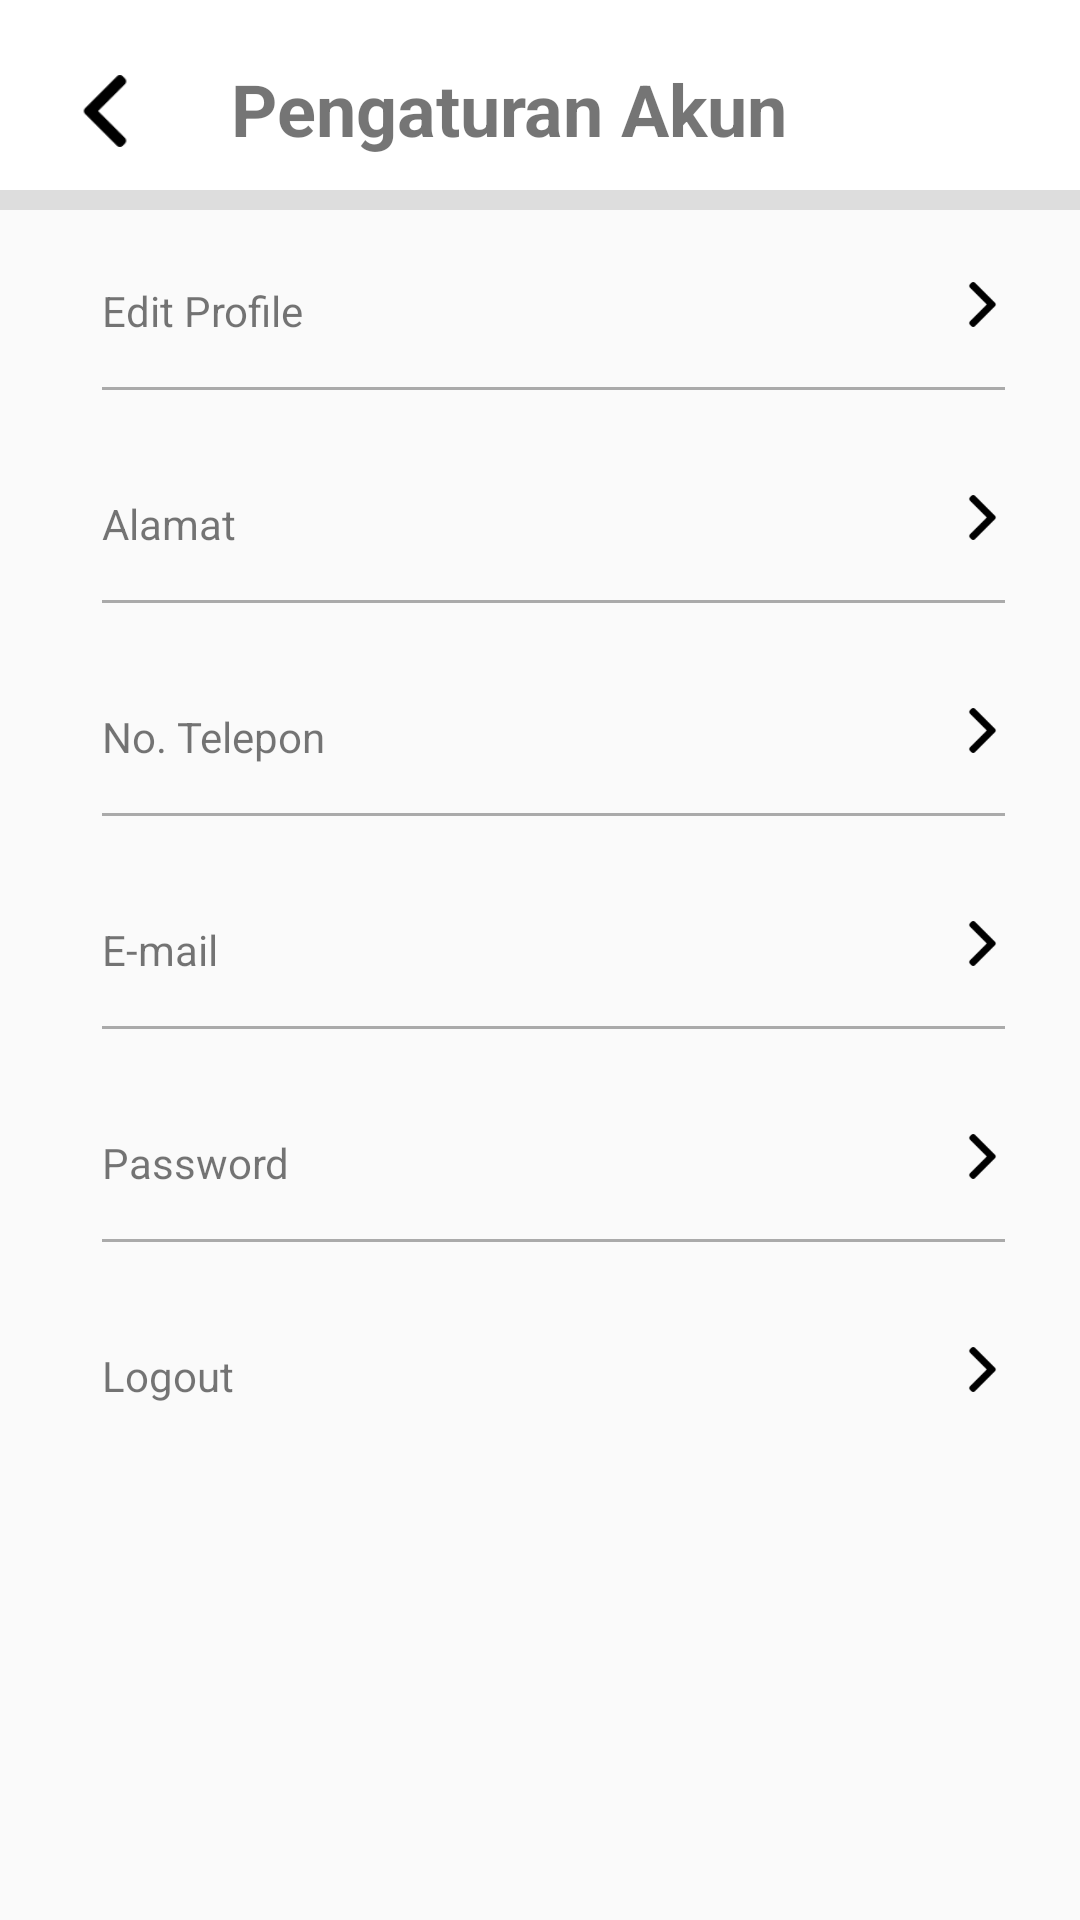

Screen size 1080*1920. Icon name, then its box in pixels as (x1, y1, x2, y2):
left arrow: (83, 75, 127, 147)
right arrow: (969, 282, 996, 327), (969, 495, 996, 540), (969, 708, 996, 753), (969, 921, 996, 966), (969, 1134, 996, 1179), (969, 1347, 996, 1392)
